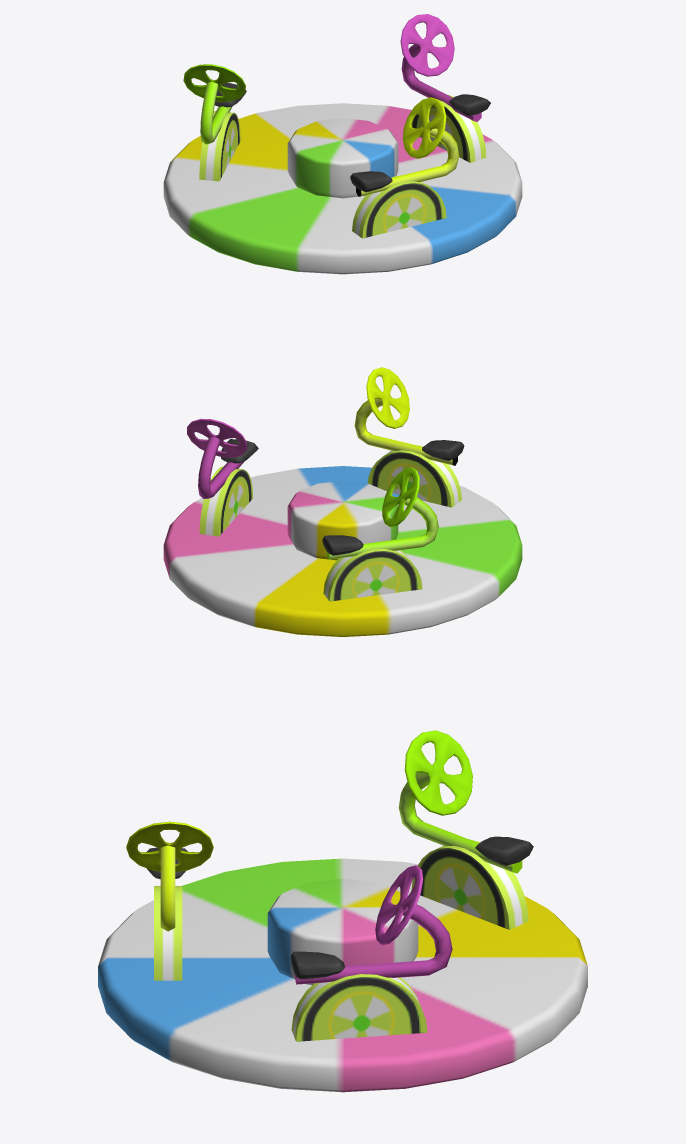
The model's file is one_way_traffic.DAE.
3 views of the same model, one above another, from view 1: azimuth 30°, elevation 25°; view 2: azimuth 150°, elevation 25°; view 3: azimuth 270°, elevation 25° (orthographic). The views are drawn at different scales.
Parts seen in each view (by area): view 1: one_way_traffic; view 2: one_way_traffic; view 3: one_way_traffic.
Part boxes in pixels (x1=…): one_way_traffic: x1=163, y1=14, x2=522, y2=274; one_way_traffic: x1=163, y1=367, x2=522, y2=636; one_way_traffic: x1=98, y1=730, x2=587, y2=1092.
Size of the model in its own units: 2911 by 2911 by 928.
Materials: 2 (2 with a texture image).
